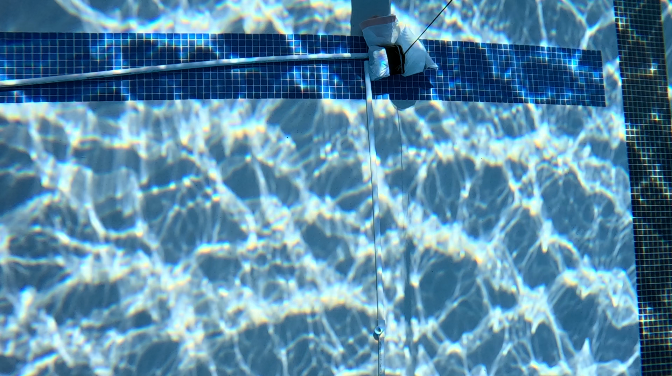sandbag: (369, 37, 429, 82)
